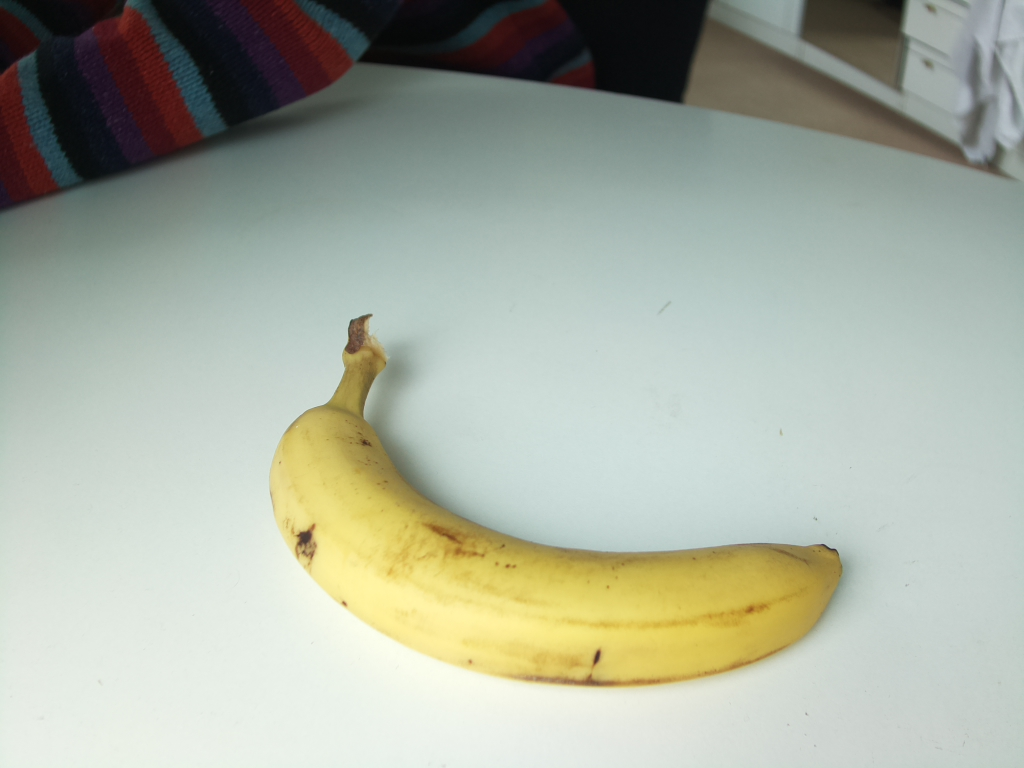banana: (268, 314, 845, 689)
